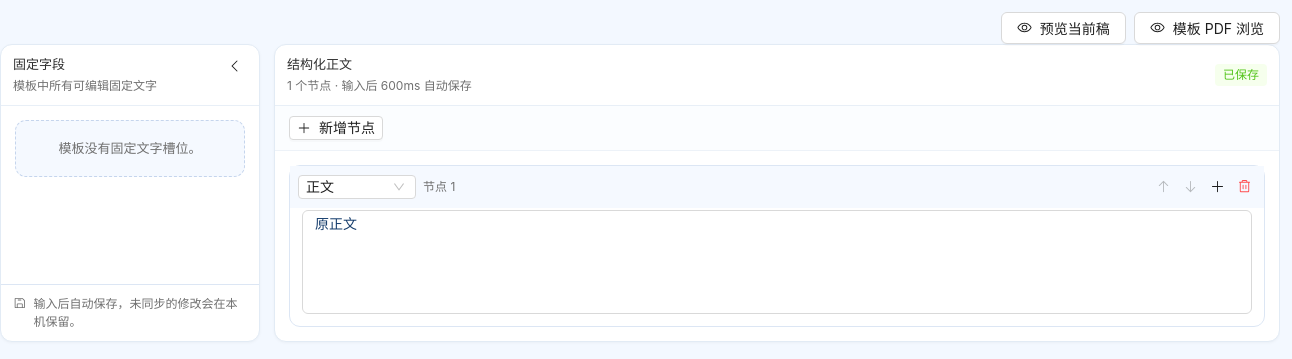
StructuredDraftEditor › an explicit save also persists edits made while the previous revision is saving
Replace the text in the text box named "正文节点 1" with "第一版" at x=777, y=262, box [302,210,1252,314]
Wait 600 ms
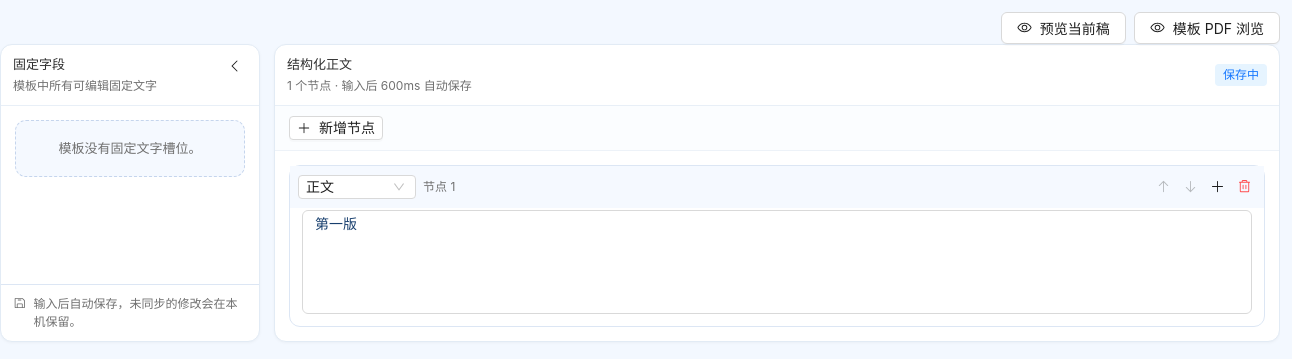
Replace the text in the text box named "正文节点 1" with "第二版" at x=777, y=262, box [302,210,1252,314]
Wait 50 ms
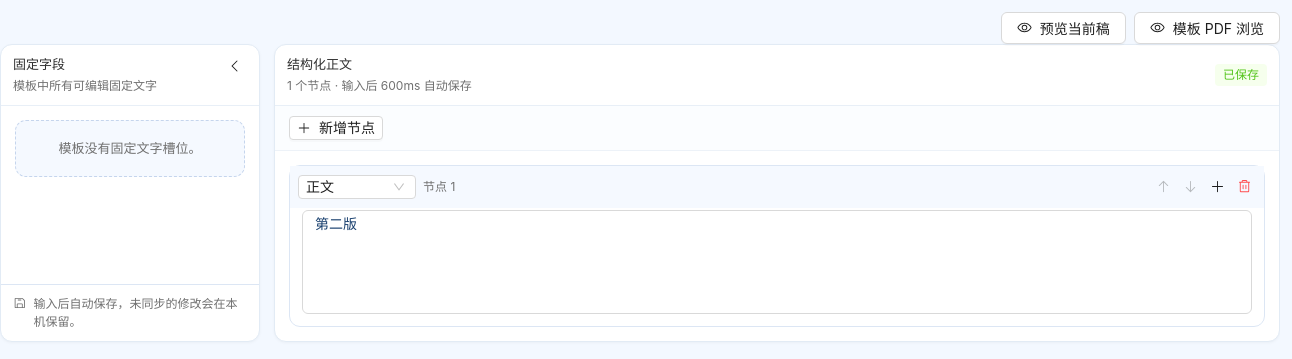
Result: the text "已保存" is shown at [1215,64,1267,86]
